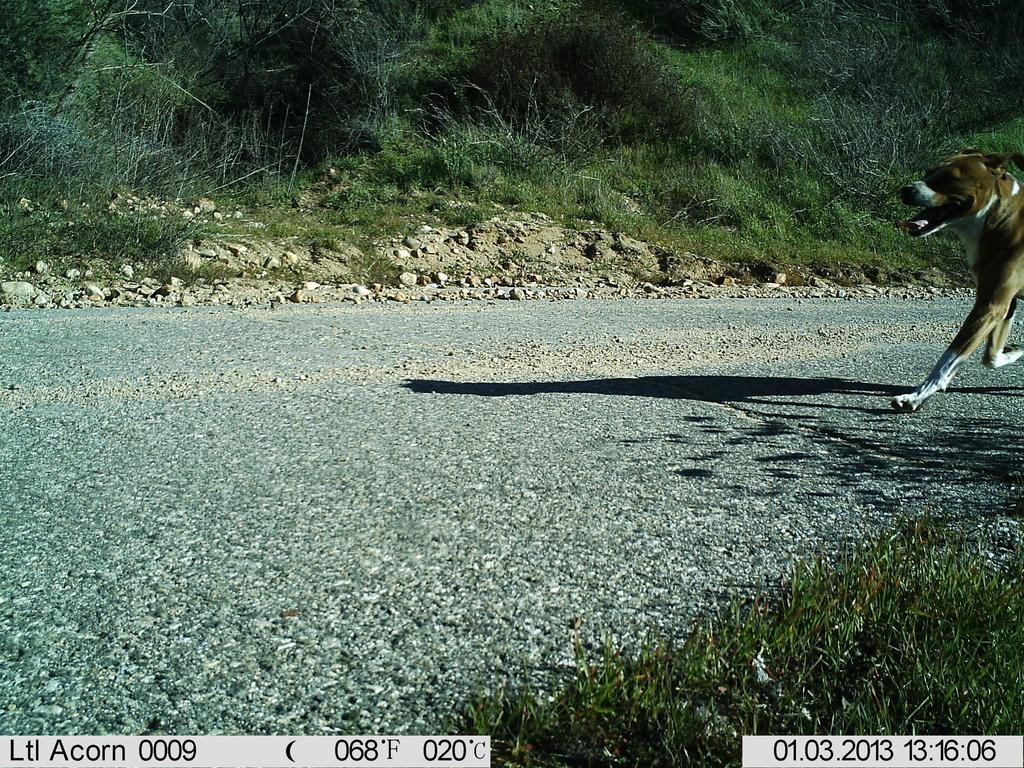dog: (880, 141, 1022, 418)
